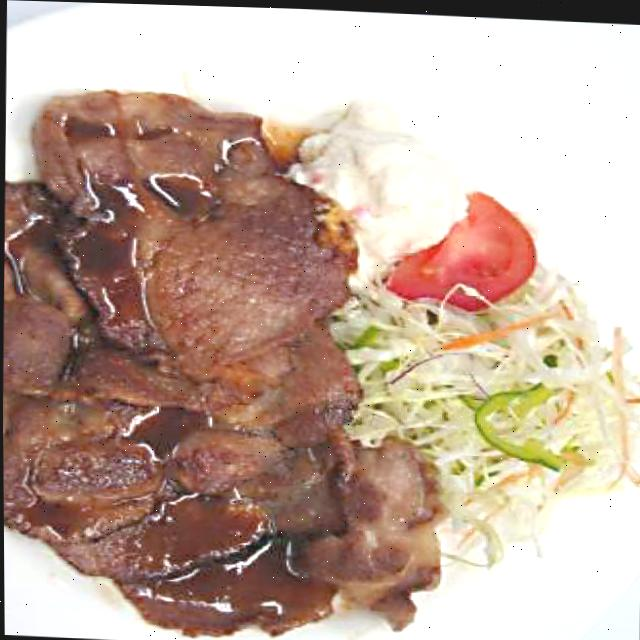猪肉菜式: (0, 30, 490, 640)
